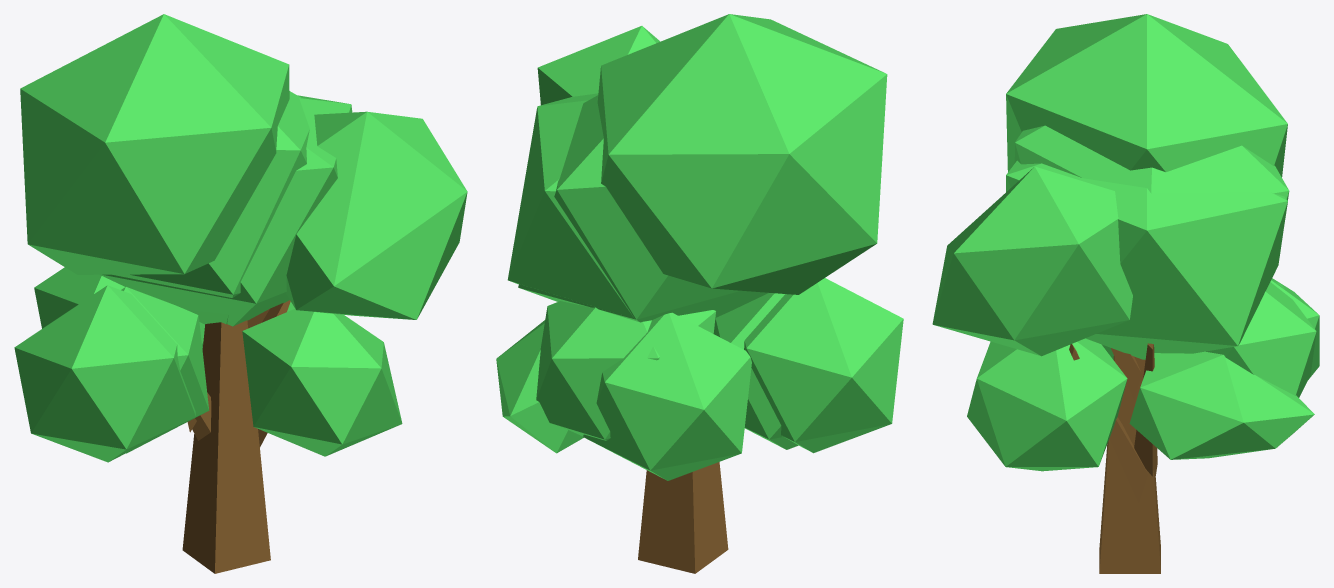
The model's file is trees.fbx.
3 views of the same model, side by side, from view 1: azimuth 30°, elevation 25°; view 2: azimuth 150°, elevation 25°; view 3: azimuth 270°, elevation 25° (orthographic). The views are drawn at different scales.
Parts seen in each view (by area): view 1: Icosphere.006, Icosphere.008, Icosphere.004, Icosphere.002, Tree2, Icosphere, Icosphere.003, Icosphere.001, Icosphere.007; view 2: Icosphere.006, Icosphere.004, Icosphere.007, Icosphere.003, Icosphere, Icosphere.009, Tree2, Icosphere.005, Icosphere.008, Icosphere.001; view 3: Icosphere.006, Icosphere.008, Icosphere, Icosphere.002, Icosphere.005, Icosphere.003, Tree2, Icosphere.009, Cube.002, Cube.005, Icosphere.007, Cube.008.
Part boxes in pixels (x1=…): Icosphere.006: x1=20, y1=14, x2=289, y2=274; Icosphere.008: x1=286, y1=111, x2=467, y2=319; Icosphere.004: x1=14, y1=285, x2=195, y2=462; Icosphere.002: x1=242, y1=309, x2=402, y2=456; Tree2: x1=182, y1=320, x2=270, y2=573; Icosphere: x1=102, y1=95, x2=352, y2=326; Icosphere.003: x1=100, y1=91, x2=309, y2=324; Icosphere.001: x1=121, y1=287, x2=209, y2=453; Icosphere.007: x1=34, y1=267, x2=124, y2=328; Icosphere.006: x1=597, y1=14, x2=887, y2=294; Icosphere.004: x1=744, y1=278, x2=903, y2=453; Icosphere.007: x1=583, y1=312, x2=751, y2=480; Icosphere.003: x1=518, y1=95, x2=768, y2=322; Icosphere: x1=507, y1=93, x2=634, y2=318; Icosphere.009: x1=536, y1=301, x2=715, y2=440; Tree2: x1=638, y1=462, x2=728, y2=573; Icosphere.005: x1=496, y1=320, x2=583, y2=453; Icosphere.008: x1=537, y1=26, x2=659, y2=105; Icosphere.001: x1=713, y1=293, x2=798, y2=449; Icosphere.006: x1=1006, y1=14, x2=1287, y2=177; Icosphere.008: x1=932, y1=166, x2=1132, y2=356; Icosphere: x1=1006, y1=160, x2=1287, y2=359; Icosphere.002: x1=967, y1=338, x2=1127, y2=471; Icosphere.005: x1=1129, y1=351, x2=1314, y2=459; Icosphere.003: x1=1014, y1=125, x2=1289, y2=344; Tree2: x1=1099, y1=356, x2=1160, y2=573; Icosphere.009: x1=1206, y1=282, x2=1316, y2=397; Cube.002: x1=1069, y1=344, x2=1147, y2=503; Cube.005: x1=1134, y1=343, x2=1157, y2=480; Icosphere.007: x1=1270, y1=278, x2=1319, y2=379; Cube.008: x1=1111, y1=348, x2=1141, y2=399.
Bounding box in the file's own units: 266 × 374 × 251.
